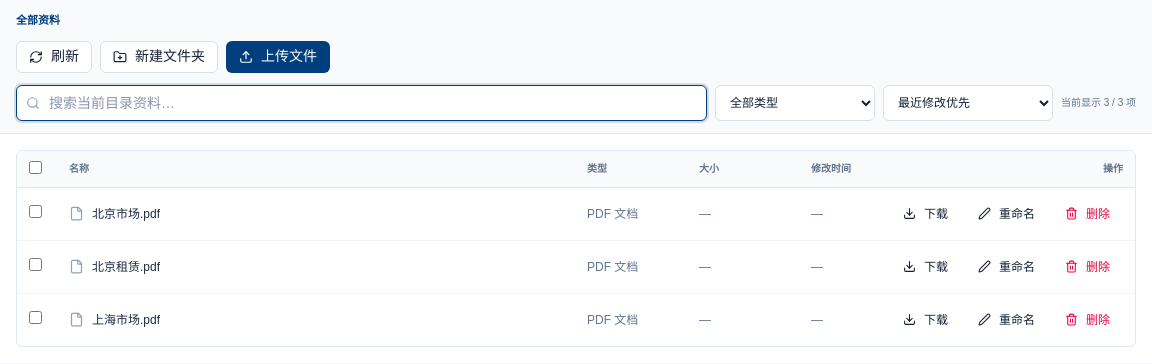
research library directory request ordering › keeps the library search focused and editable as directory results change
Step 1. Type "北京" into the field labelled "搜索当前目录资料" → (362, 102), box [16,84,707,120]
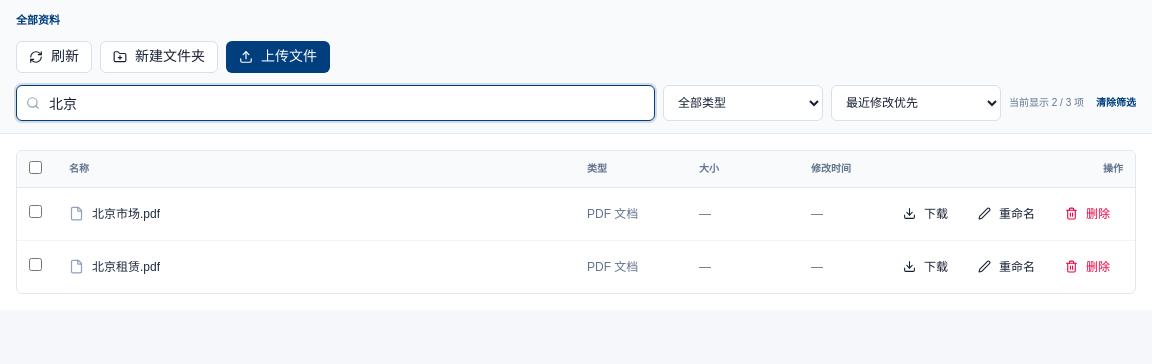
Expected: the text "北京租赁.pdf" is shown, [92,259,160,275]
Result: the button "上海市场.pdf" is gone
Step 2. Replace the text in the field named "搜索当前目录资料" with "北京市场" → (336, 102), box [16,84,655,120]
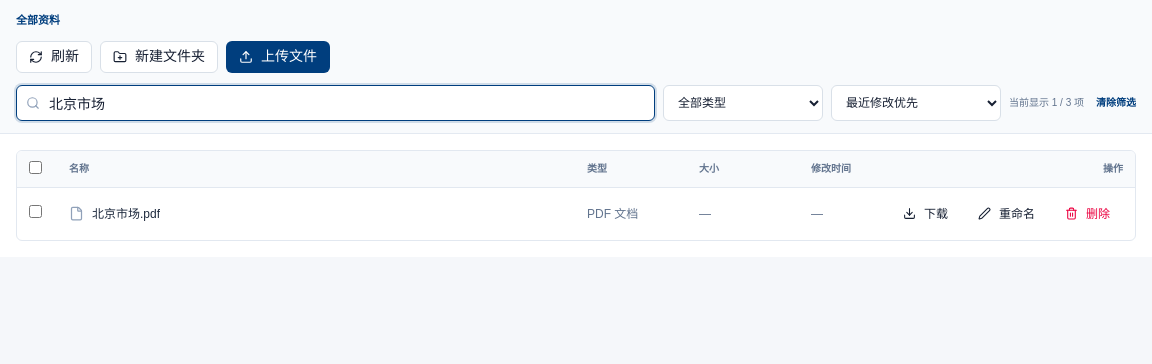
Expected: the text "北京市场.pdf" is shown, [92,206,160,222]
Result: the button "北京租赁.pdf" is gone
